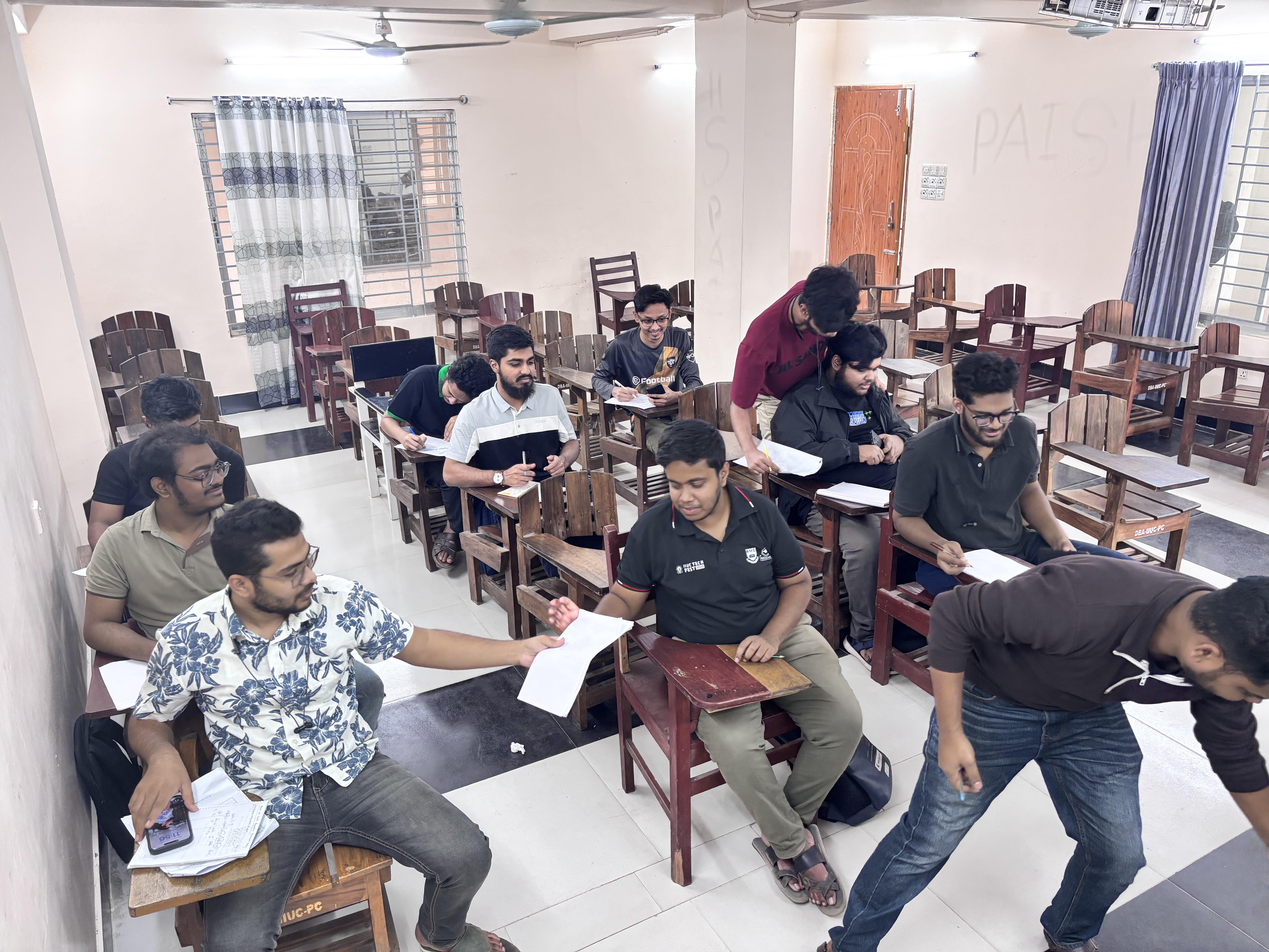exchanging_sheets: (471, 468, 845, 856), (742, 266, 914, 531)
no_cheating: (895, 332, 1088, 615), (373, 333, 490, 484)
suspicious_moving: (93, 432, 264, 673), (447, 310, 587, 520), (577, 278, 710, 439)
using_phone: (139, 524, 502, 952)
